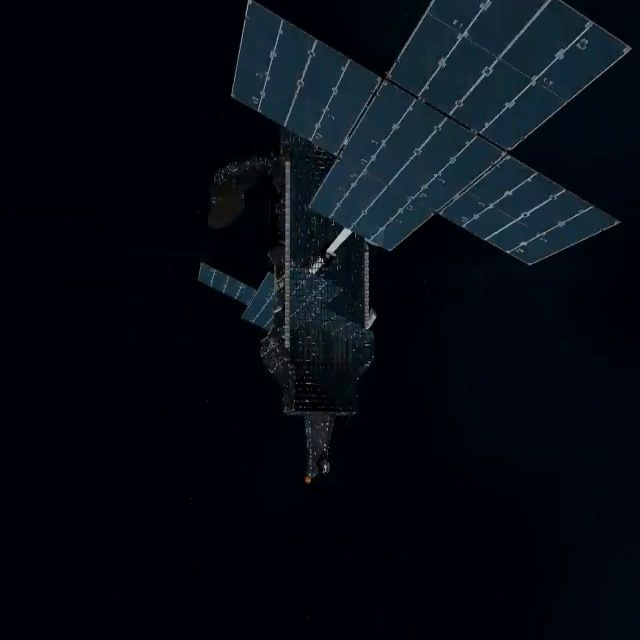satellite: (177, 0, 640, 501)
